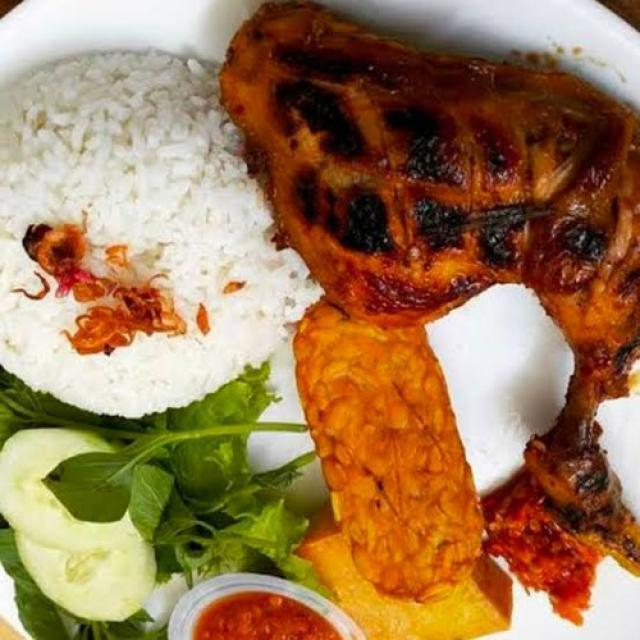ayam_goreng: (499, 75, 640, 562)
nasi_putih: (0, 57, 298, 417)
